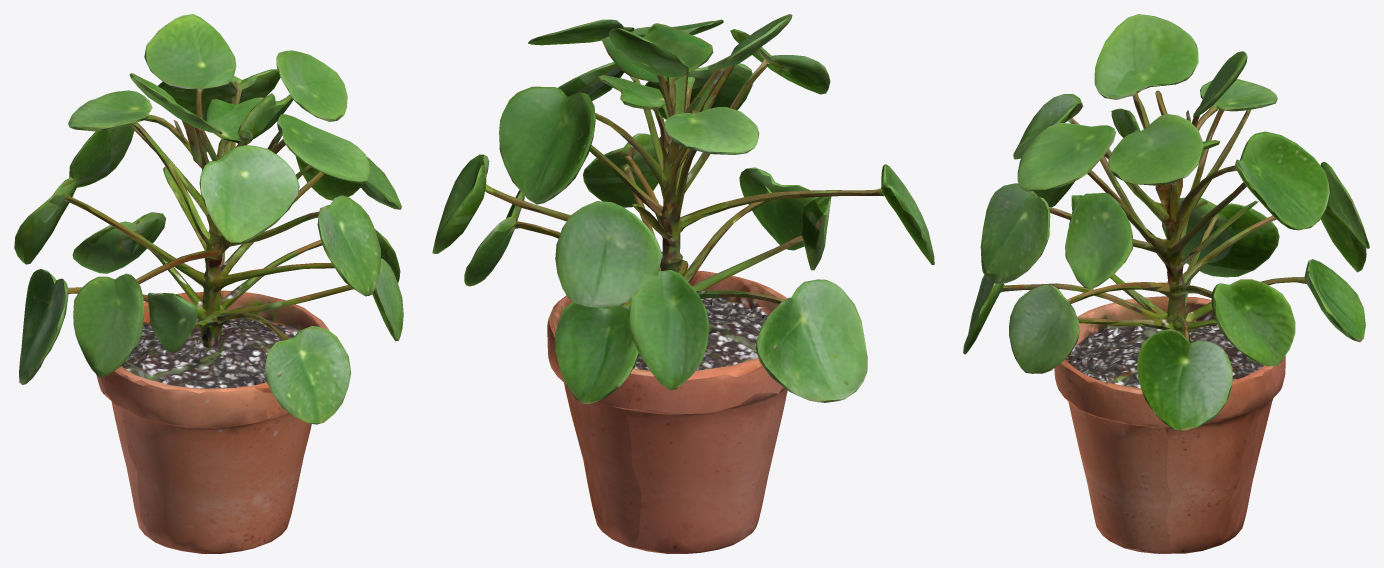
Rendered from mundane_plant.glb.
The picture shows the model from 3 angles, left to right: view 1: azimuth 30°, elevation 25°; view 2: azimuth 150°, elevation 25°; view 3: azimuth 270°, elevation 25°; orthographic projection. The views are drawn at different scales.
Visible parts, largest first — view 1: geometry_0; view 2: geometry_0; view 3: geometry_0.
Boxes of the visible parts, box(x1,y1,x2,y2) form: geometry_0: box(14, 14, 403, 553); geometry_0: box(432, 14, 934, 553); geometry_0: box(963, 14, 1369, 553).
Bounding box in the file's own units: 0.3582 × 0.45 × 0.3501.
1 material, 1 textured.
